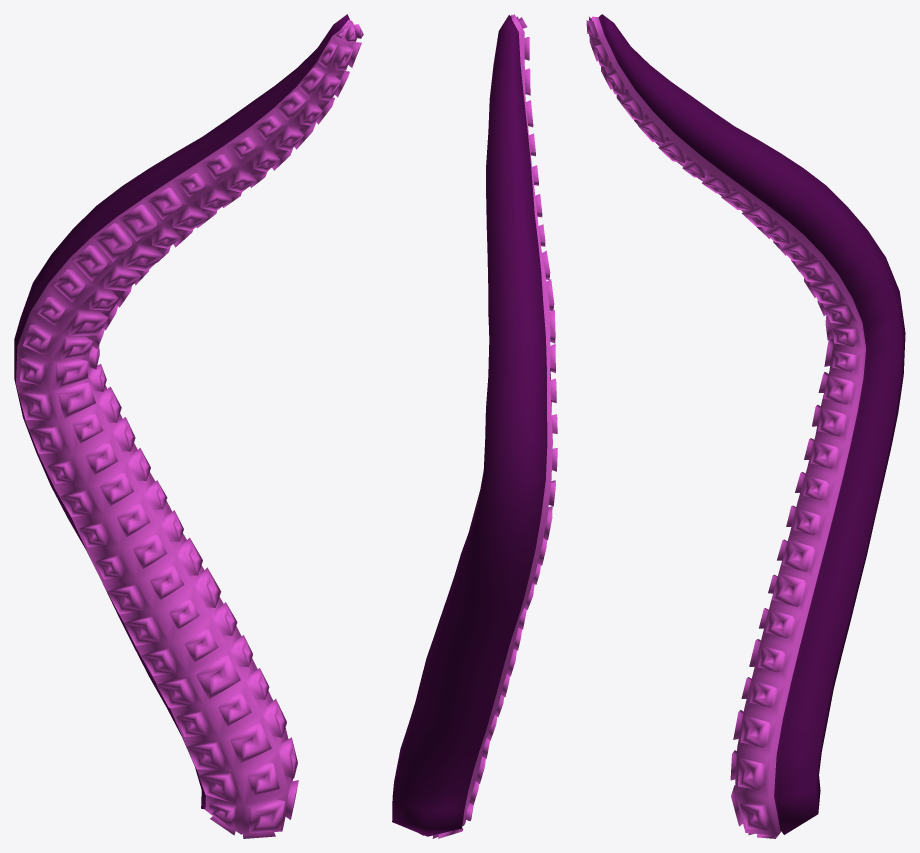
The model's file is tentacule3.fbx.
3 renders of one model, left to right at view 1: azimuth 30°, elevation 25°; view 2: azimuth 150°, elevation 25°; view 3: azimuth 270°, elevation 25°, orthographic. The views are drawn at different scales.
Parts seen in each view (by area): view 1: tentacule011; view 2: tentacule011; view 3: tentacule011.
Part boxes in pixels (bbox=[...]): tentacule011: bbox=[14, 14, 363, 838]; tentacule011: bbox=[392, 14, 557, 838]; tentacule011: bbox=[586, 14, 905, 838].
Bounding box in the file's own units: 84.52 × 311 × 110.
